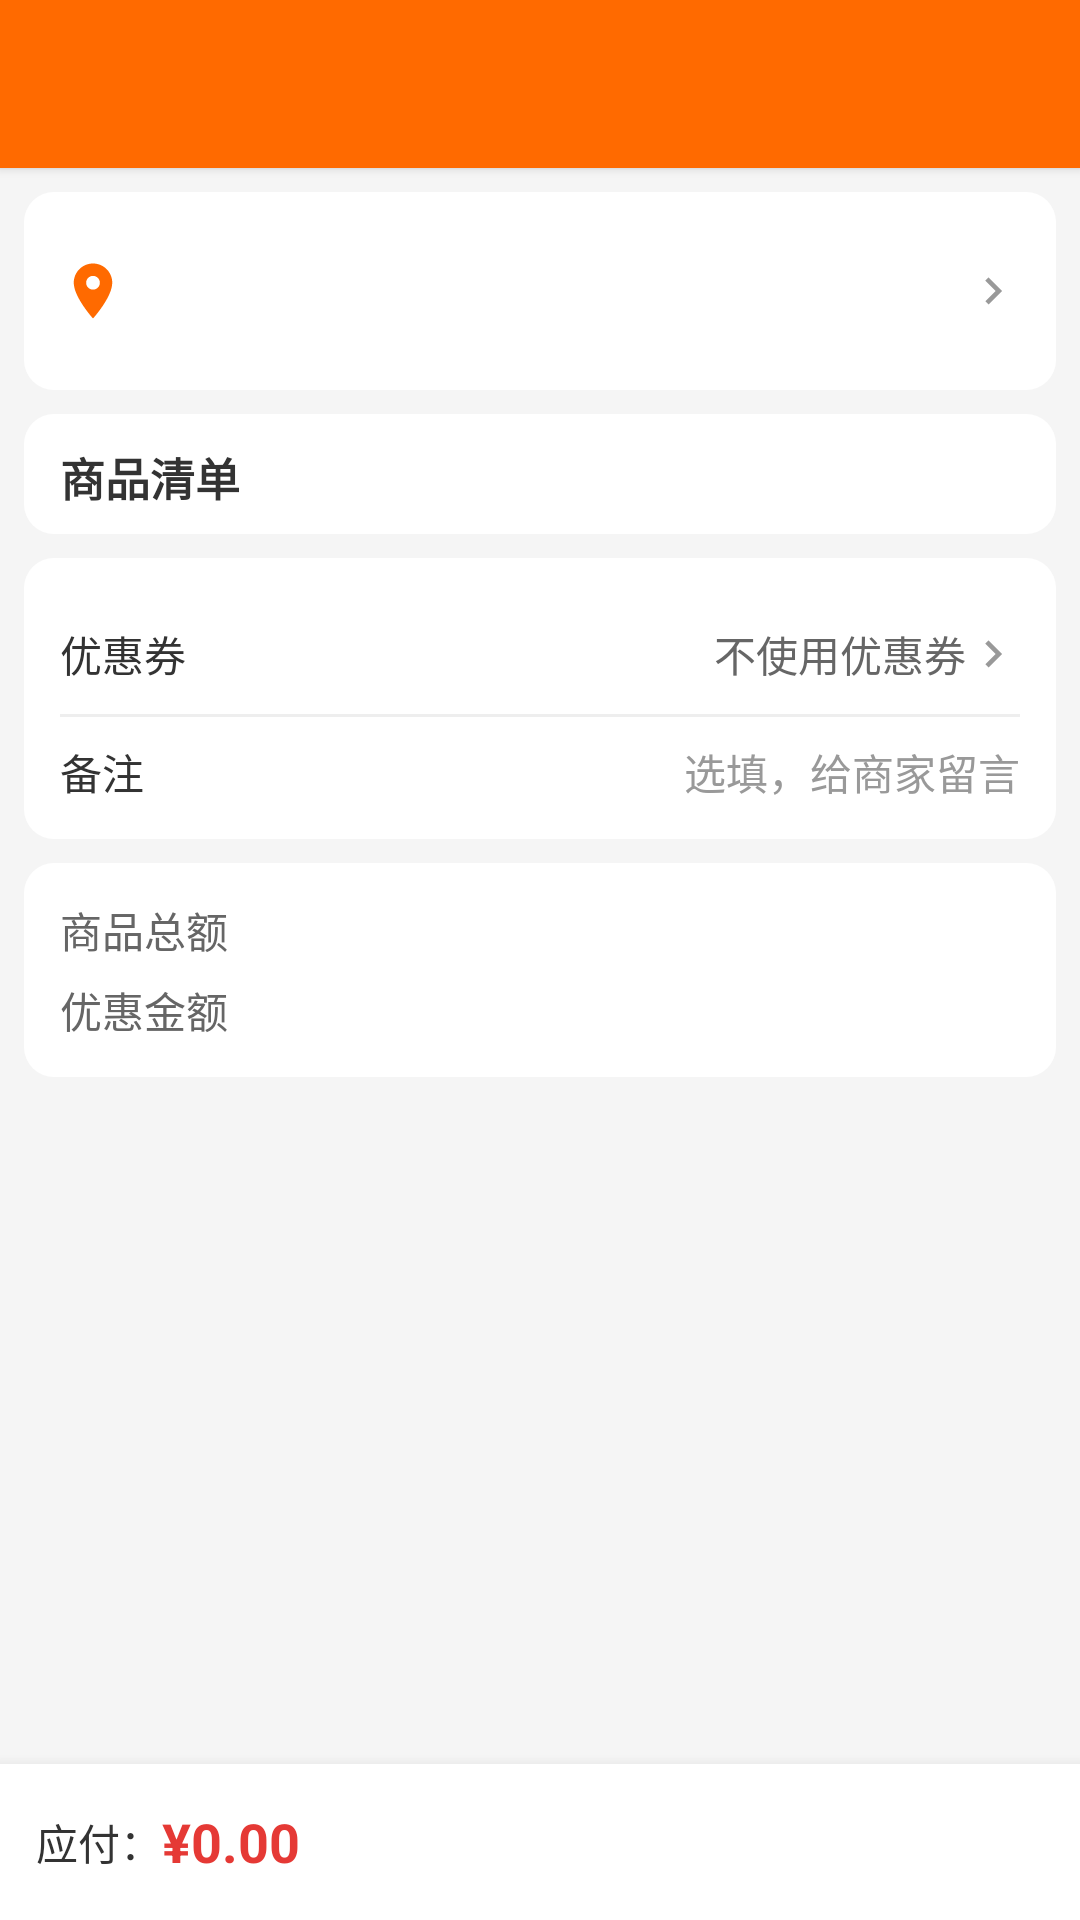

Locate icon controls on the screen. Image size 1080px×1920px, boxes as (x1, y1, x2, y2).
收货地址: (73, 263, 113, 318)
